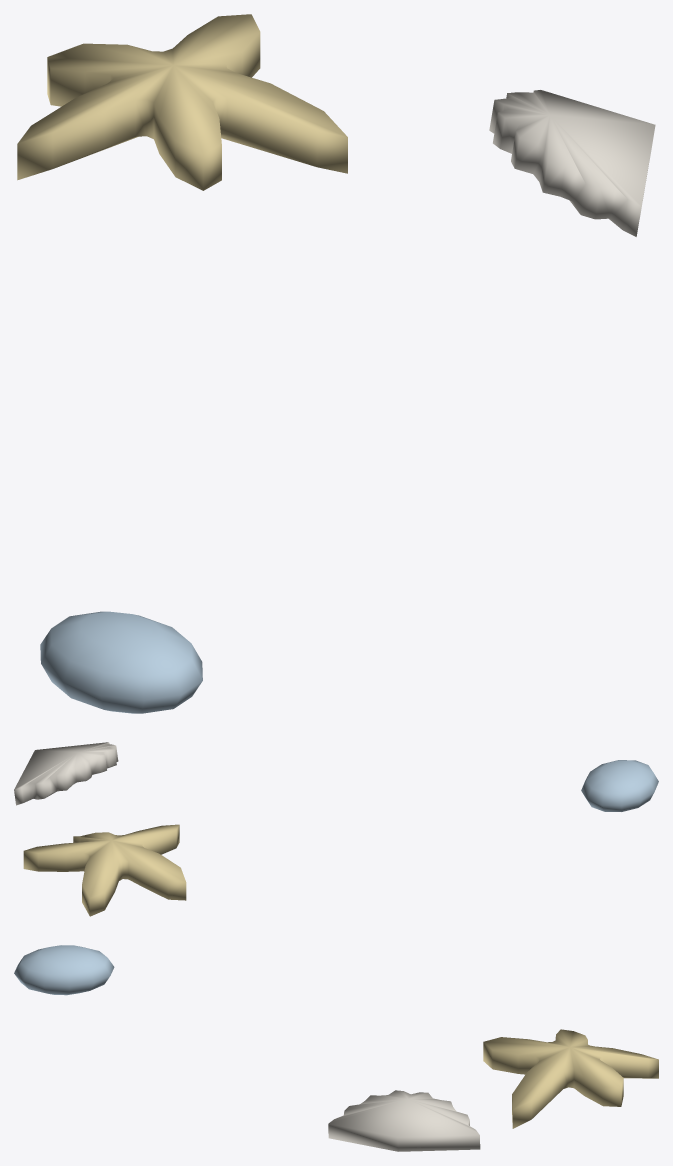
File: W2_FloraRing_12_11.fbx
3 renders of one model, top to bottom at view 1: azimuth 30°, elevation 25°; view 2: azimuth 150°, elevation 25°; view 3: azimuth 270°, elevation 25°, orthographic. The views are drawn at different scales.
Parts seen in each view (by area): view 1: W2_FloraRing_12_11; view 2: W2_FloraRing_12_11; view 3: W2_FloraRing_12_11.
Part boxes in pixels (x1,y1,x2,y2): W2_FloraRing_12_11: [17, 14, 655, 713]; W2_FloraRing_12_11: [14, 742, 658, 916]; W2_FloraRing_12_11: [14, 945, 658, 1151].
Bounding box in the file's own units: 0.4881 × 0.0816 × 0.5678.
